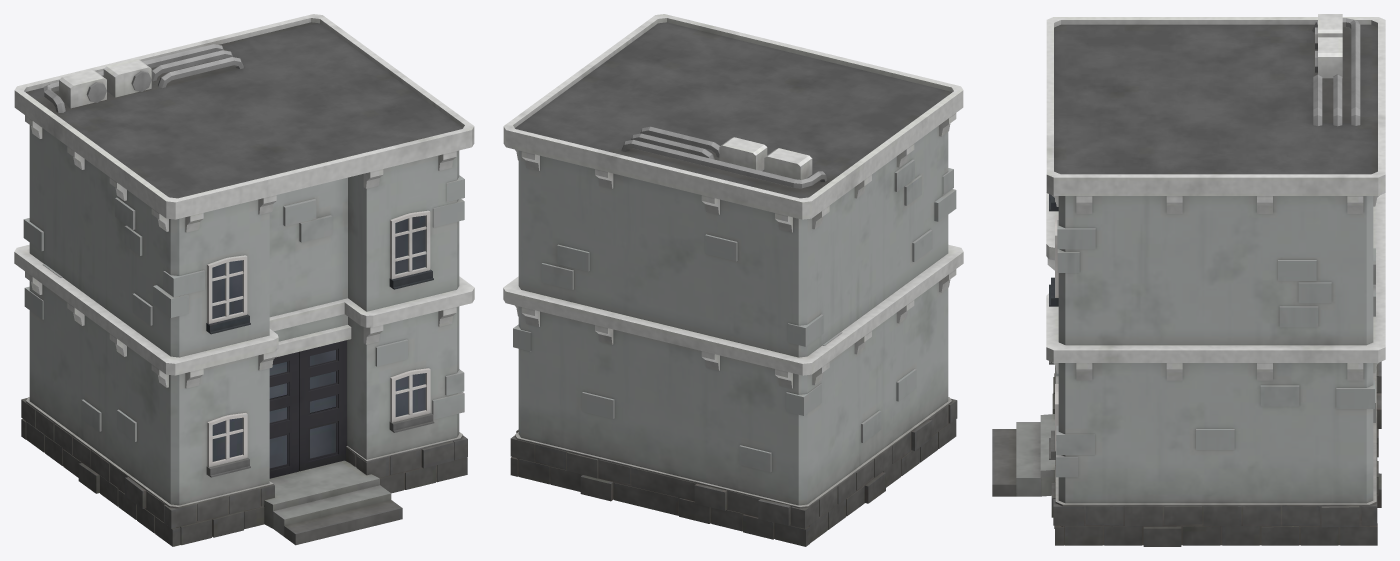
File: 2Story_Center.glb
The picture shows the model from 3 angles, left to right: view 1: azimuth 30°, elevation 25°; view 2: azimuth 150°, elevation 25°; view 3: azimuth 270°, elevation 25°; orthographic projection. The views are drawn at different scales.
Parts seen in each view (by area): view 1: 2Story_Center_high; view 2: 2Story_Center_high; view 3: 2Story_Center_high.
Part boxes in pixels (bbox=[...]): 2Story_Center_high: bbox=[14, 14, 474, 546]; 2Story_Center_high: bbox=[503, 14, 963, 546]; 2Story_Center_high: bbox=[992, 14, 1385, 546].
Bounding box in the file's own units: 2.42 × 2.74 × 2.5.
2 materials, 2 textured.
